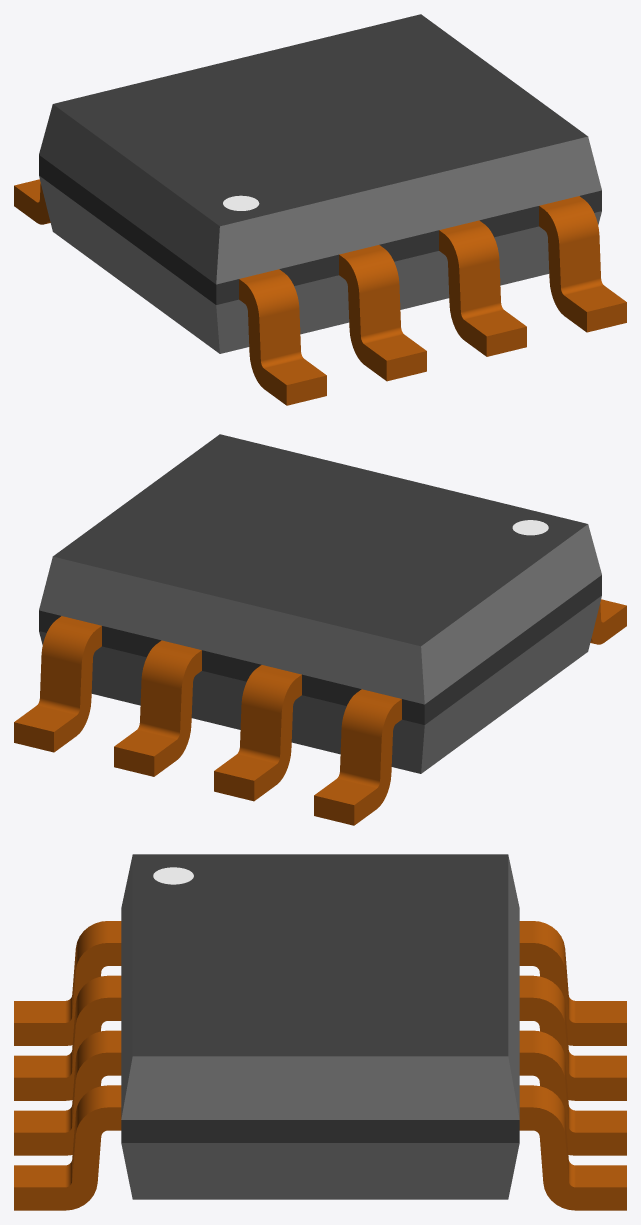
File: SOIC8-POWERPAD.glb
The picture shows the model from 3 angles, top to bottom: view 1: azimuth 30°, elevation 25°; view 2: azimuth 150°, elevation 25°; view 3: azimuth 270°, elevation 25°; orthographic projection. The views are drawn at different scales.
Visible parts, largest first — view 1: SOIC8-POWERPAD; view 2: SOIC8-POWERPAD; view 3: SOIC8-POWERPAD.
Boxes of the visible parts, box(x1,y1,x2,y2) form: SOIC8-POWERPAD: box(14, 14, 626, 405); SOIC8-POWERPAD: box(14, 434, 626, 825); SOIC8-POWERPAD: box(14, 854, 626, 1210).
Size of the model in its own units: 0.0049 by 0.00175 by 0.006.
